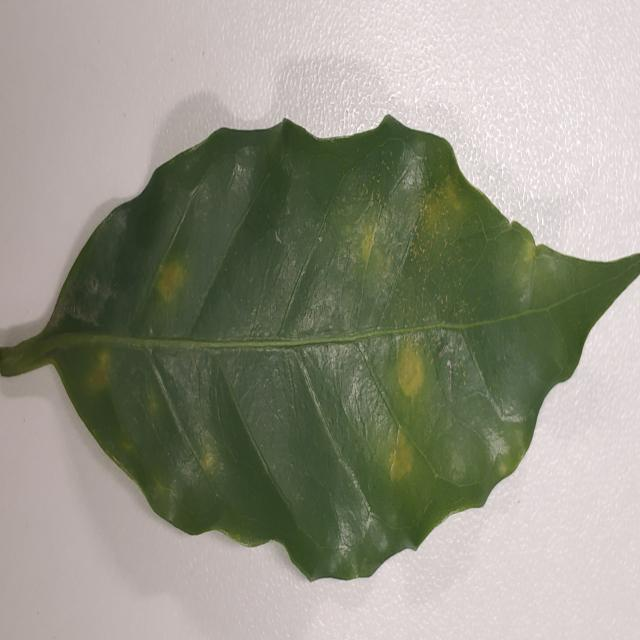Enfermedad-Roya: (0, 117, 640, 584)
